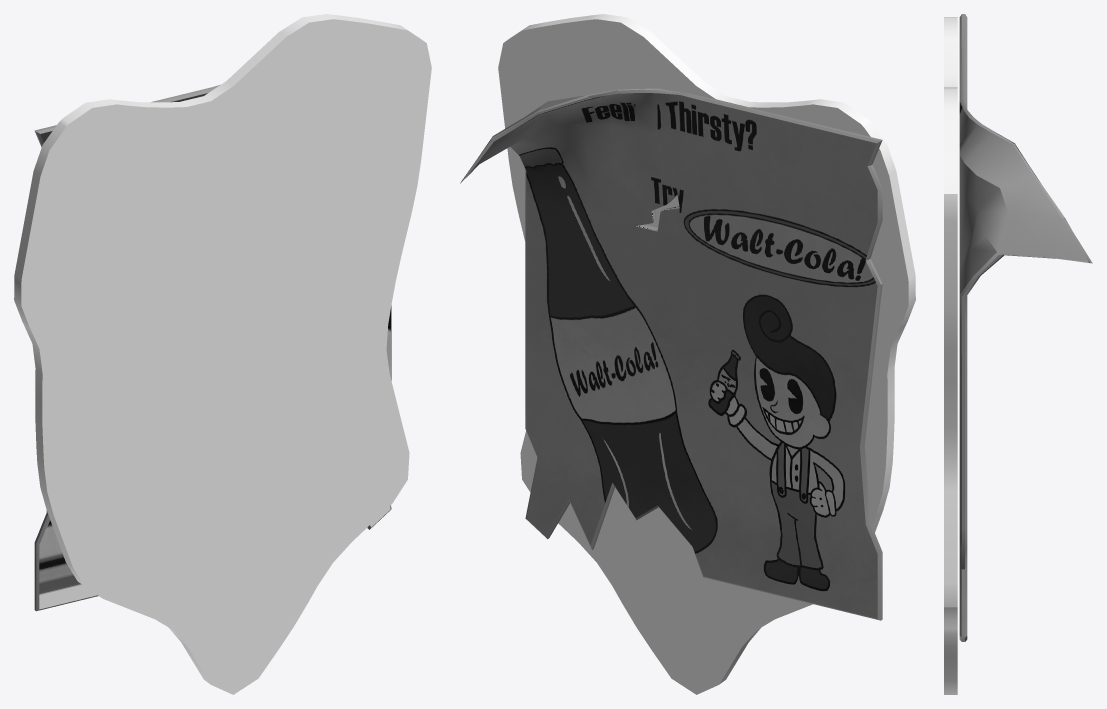
The model's file is TornFoldedPoster.fbx.
The picture shows the model from 3 angles, left to right: view 1: azimuth 30°, elevation 25°; view 2: azimuth 150°, elevation 25°; view 3: azimuth 270°, elevation 25°; orthographic projection. The views are drawn at different scales.
Visible parts, largest first — view 1: TornFoldedPoster; view 2: TornFoldedPoster; view 3: TornFoldedPoster.
Part boxes in pixels (x1,y1,x2,y2): TornFoldedPoster: [14, 14, 431, 694]; TornFoldedPoster: [460, 14, 915, 694]; TornFoldedPoster: [944, 14, 1092, 694].
Bounding box in the file's own units: 2 × 3.04 × 0.6414.
